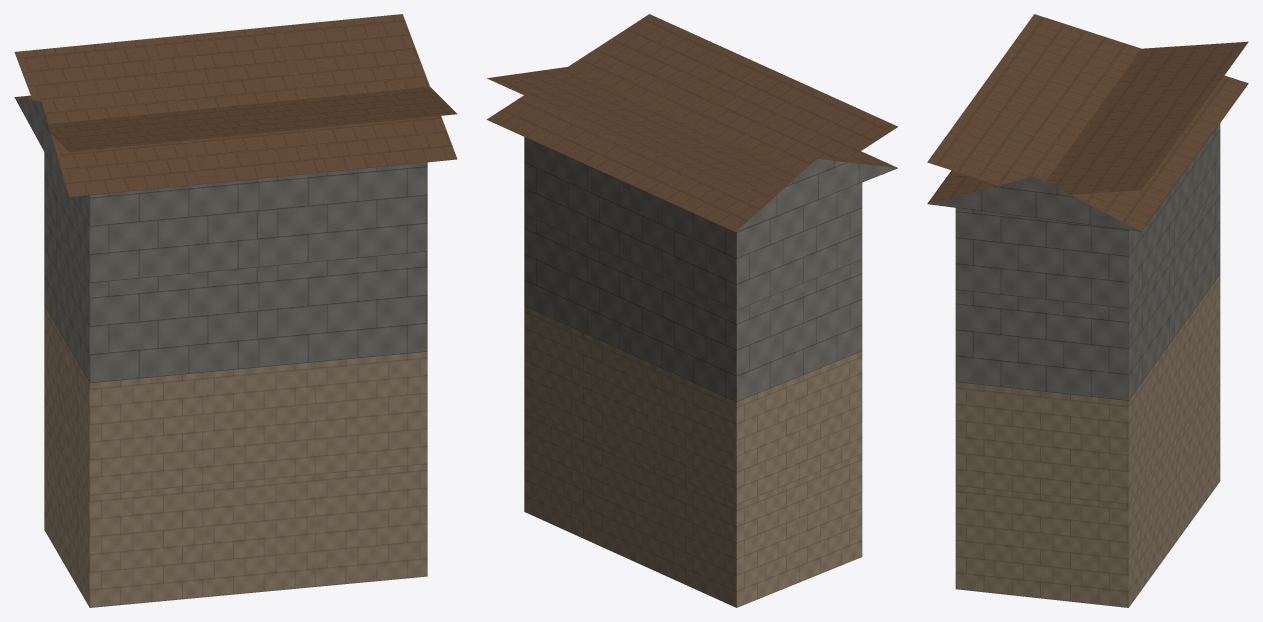
Rendered from bld_c23_45_389.gltf.
3 views of the same model, side by side, from view 1: azimuth 30°, elevation 25°; view 2: azimuth 150°, elevation 25°; view 3: azimuth 270°, elevation 25° (orthographic). The views are drawn at different scales.
Parts seen in each view (by area): view 1: bld_c23_45_389; view 2: bld_c23_45_389; view 3: bld_c23_45_389.
Boxes of the visible parts, <box> form: bld_c23_45_389: <box>14,14,457,607</box>; bld_c23_45_389: <box>486,14,897,607</box>; bld_c23_45_389: <box>927,14,1248,607</box>.
Size of the model in its own units: 9.07 by 10.4 by 7.
Materials: 4 (4 with a texture image).
